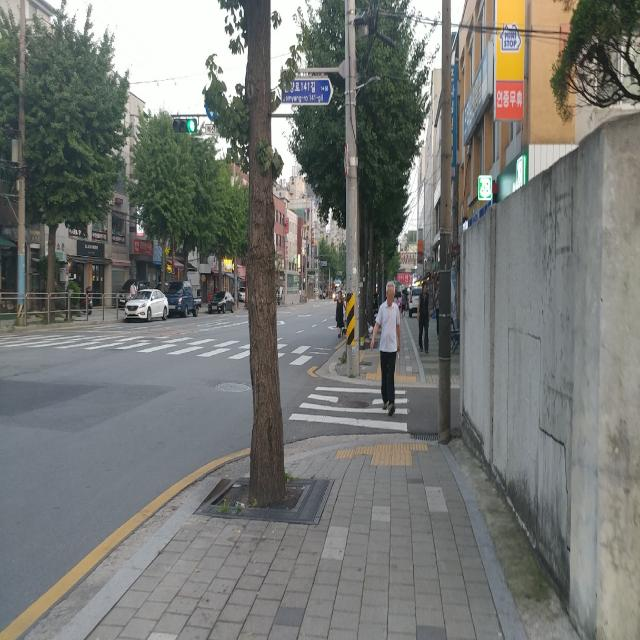횡단보도: (0, 332, 325, 363), (288, 386, 410, 432)
